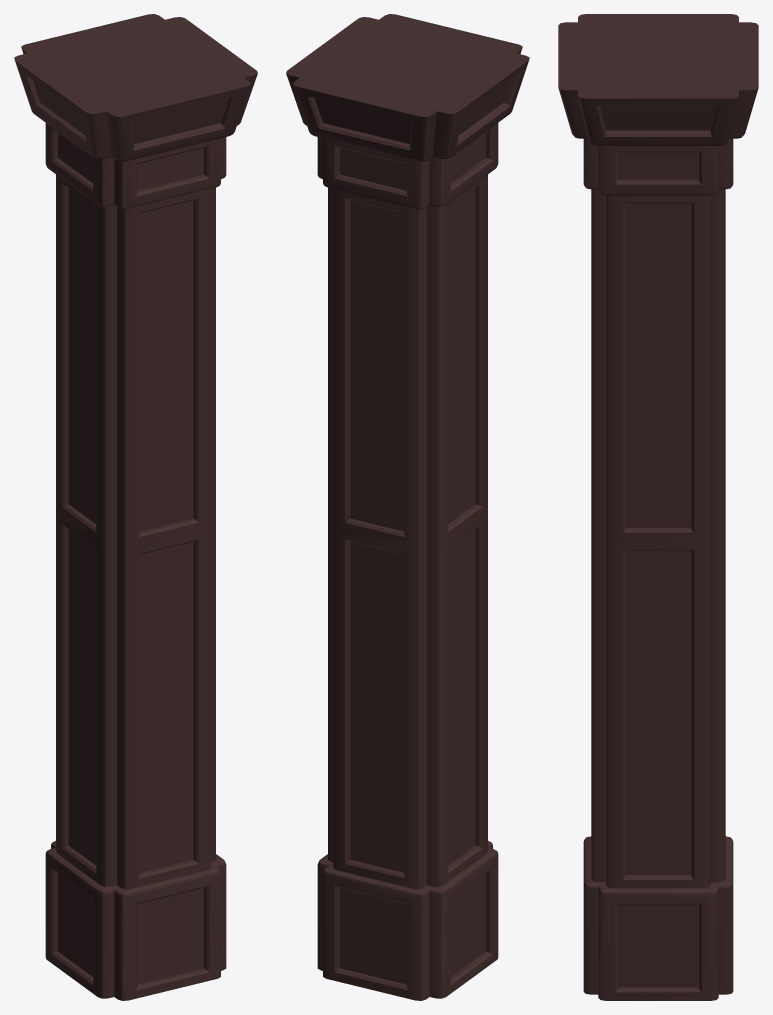
Rendered from PillarBlockout.fbx.
3 renders of one model, left to right at view 1: azimuth 30°, elevation 25°; view 2: azimuth 150°, elevation 25°; view 3: azimuth 270°, elevation 25°, orthographic.
Visible parts, largest first — view 1: PillarBlockout; view 2: PillarBlockout; view 3: PillarBlockout.
Part boxes in pixels (x1=…): PillarBlockout: x1=14, y1=14, x2=257, y2=1000; PillarBlockout: x1=286, y1=14, x2=529, y2=1000; PillarBlockout: x1=558, y1=14, x2=758, y2=1000.
Bounding box in the file's own units: 166 × 836 × 166.
